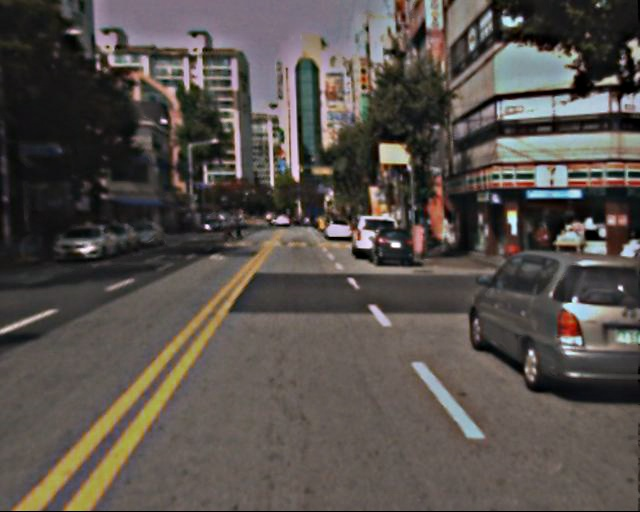person: (530, 215, 556, 275), (234, 213, 247, 244)
